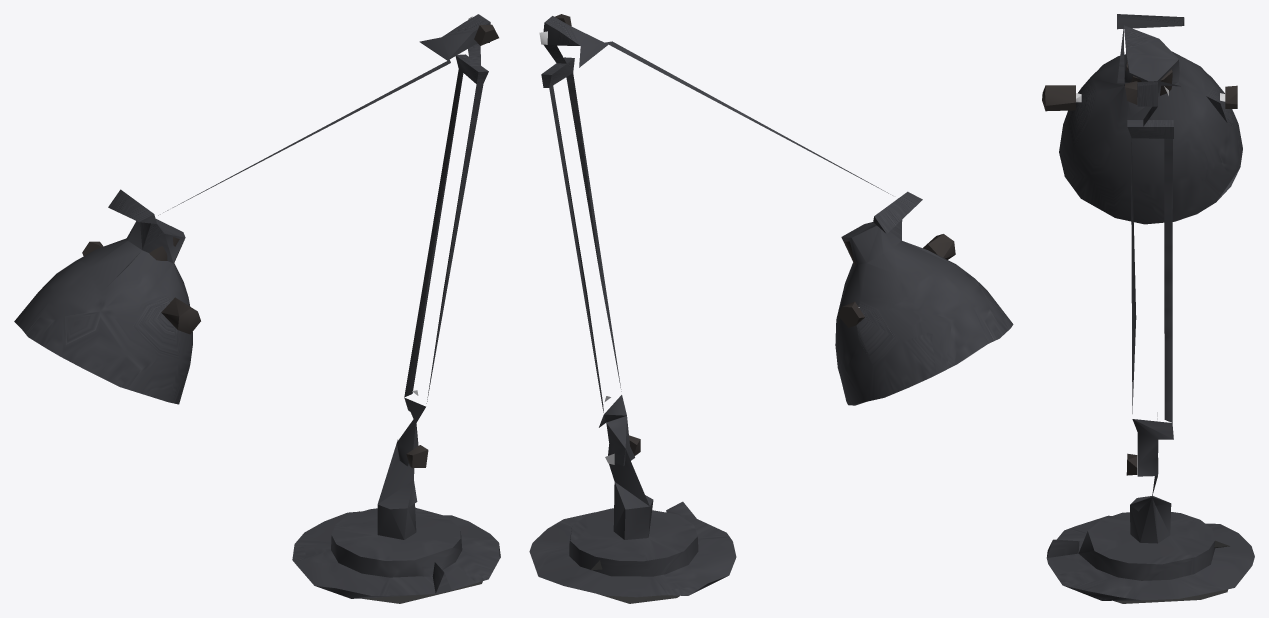
The model's file is simready-lamp-desk-arm.lite.41d686b2.glb.
3 renders of one model, left to right at view 1: azimuth 30°, elevation 25°; view 2: azimuth 150°, elevation 25°; view 3: azimuth 270°, elevation 25°, orthographic.
Parts seen in each view (by area): view 1: model; view 2: model; view 3: model.
Boxes of the visible parts, x1,y1,x2,y2 form: model: (14, 14, 500, 603); model: (529, 14, 1013, 603); model: (1042, 14, 1254, 603).
Bounding box in the file's own units: 0.4323 × 0.471 × 0.1741.
Materials: 9 (1 with a texture image).
